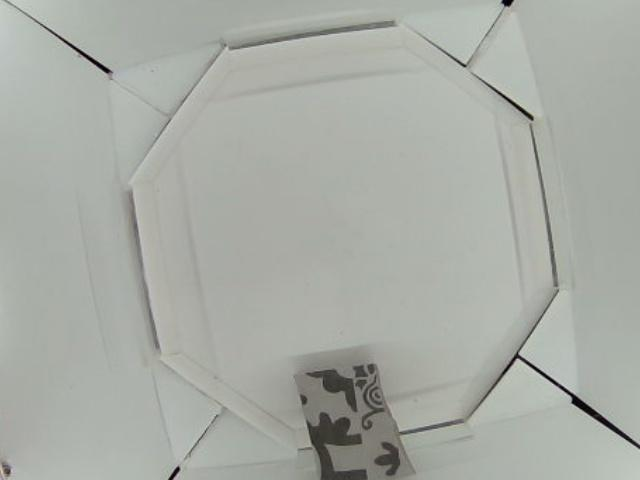China: (295, 363, 423, 480)
